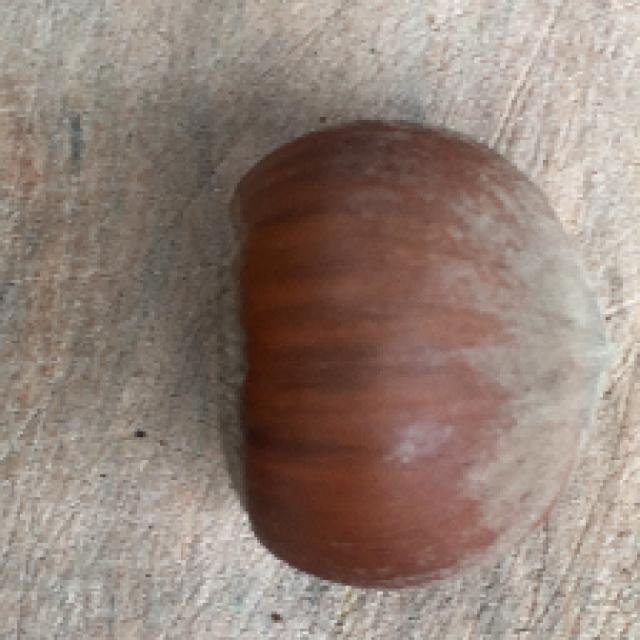qualityHazelnut: (211, 113, 608, 591)
